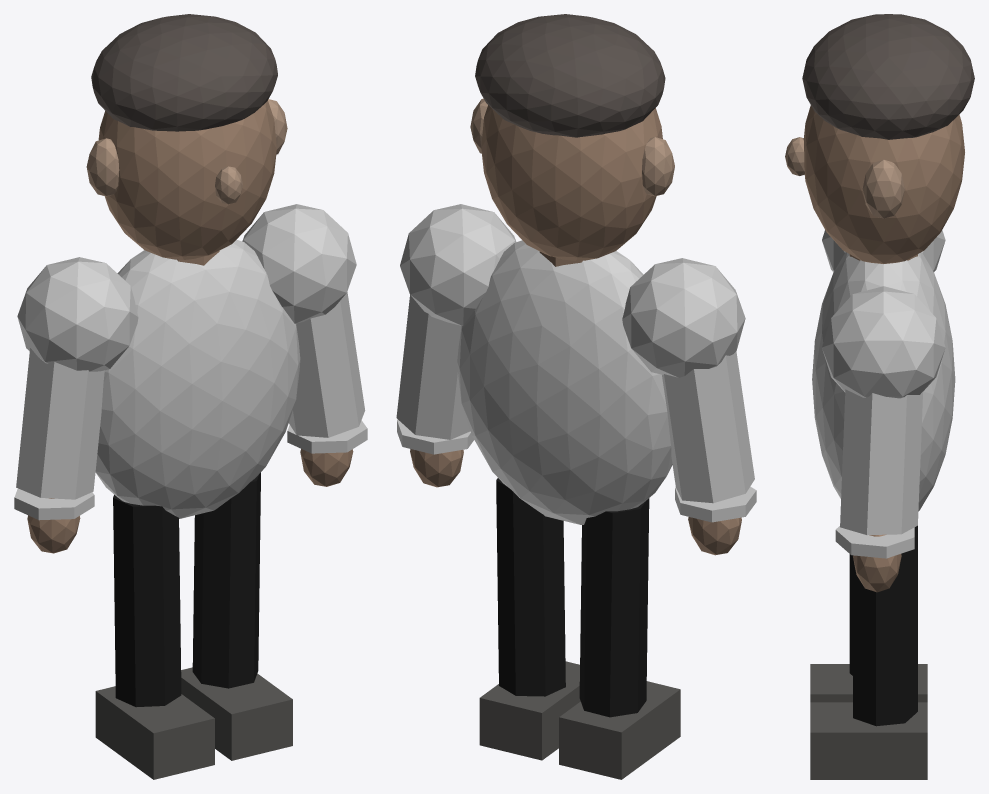
Rendered from ped_5.glb.
3 renders of one model, left to right at view 1: azimuth 30°, elevation 25°; view 2: azimuth 150°, elevation 25°; view 3: azimuth 270°, elevation 25°, orthographic.
Visible parts, largest first — view 1: body, armR, legR, armL, legL; view 2: body, armR, legR, armL, legL; view 3: body, armL, legL, legR, armR.
Boxes of the visible parts, x1=… form: body: x1=86, y1=14, x2=300, y2=518; armR: x1=14, y1=257, x2=138, y2=553; legR: x1=95, y1=494, x2=214, y2=779; armL: x1=242, y1=204, x2=367, y2=486; legL: x1=181, y1=472, x2=292, y2=760; body: x1=457, y1=14, x2=674, y2=524; armR: x1=622, y1=258, x2=756, y2=555; legR: x1=559, y1=498, x2=680, y2=779; armL: x1=396, y1=204, x2=516, y2=487; legL: x1=479, y1=478, x2=580, y2=760; body: x1=785, y1=14, x2=974, y2=511; armL: x1=822, y1=286, x2=945, y2=592; legL: x1=810, y1=525, x2=927, y2=779; legR: x1=810, y1=554, x2=927, y2=702; armR: x1=822, y1=230, x2=945, y2=271.
Size of the model in its own units: 0.8703 by 1.72 by 0.4127.
